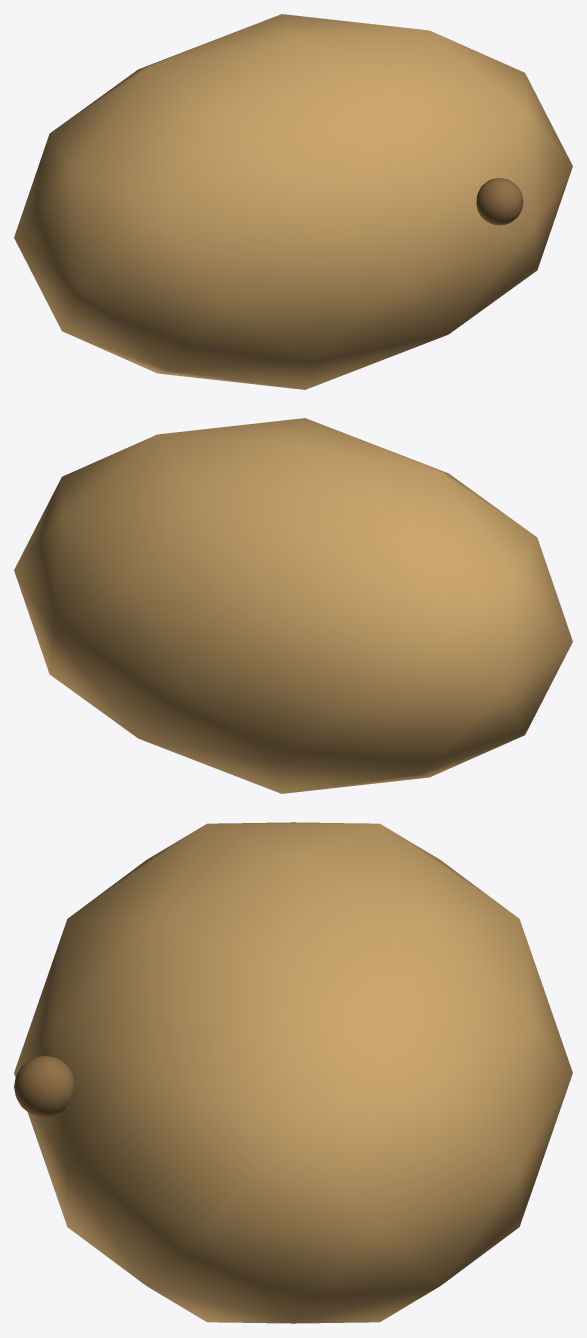
Rendered from food_potato.glb.
3 renders of one model, top to bottom at view 1: azimuth 30°, elevation 25°; view 2: azimuth 150°, elevation 25°; view 3: azimuth 270°, elevation 25°, orthographic. The views are drawn at different scales.
Parts seen in each view (by area): view 1: potato; view 2: potato; view 3: potato.
Boxes of the visible parts, bbox=[...] form: potato: bbox=[14, 14, 572, 389]; potato: bbox=[14, 418, 572, 793]; potato: bbox=[14, 822, 572, 1323].
Size of the model in its own units: 0.3566 by 0.225 by 0.27.
